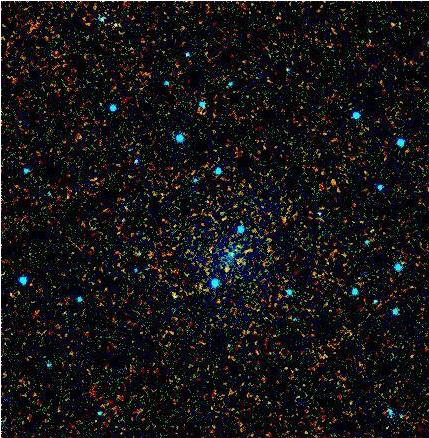star: (199, 254, 229, 284)
